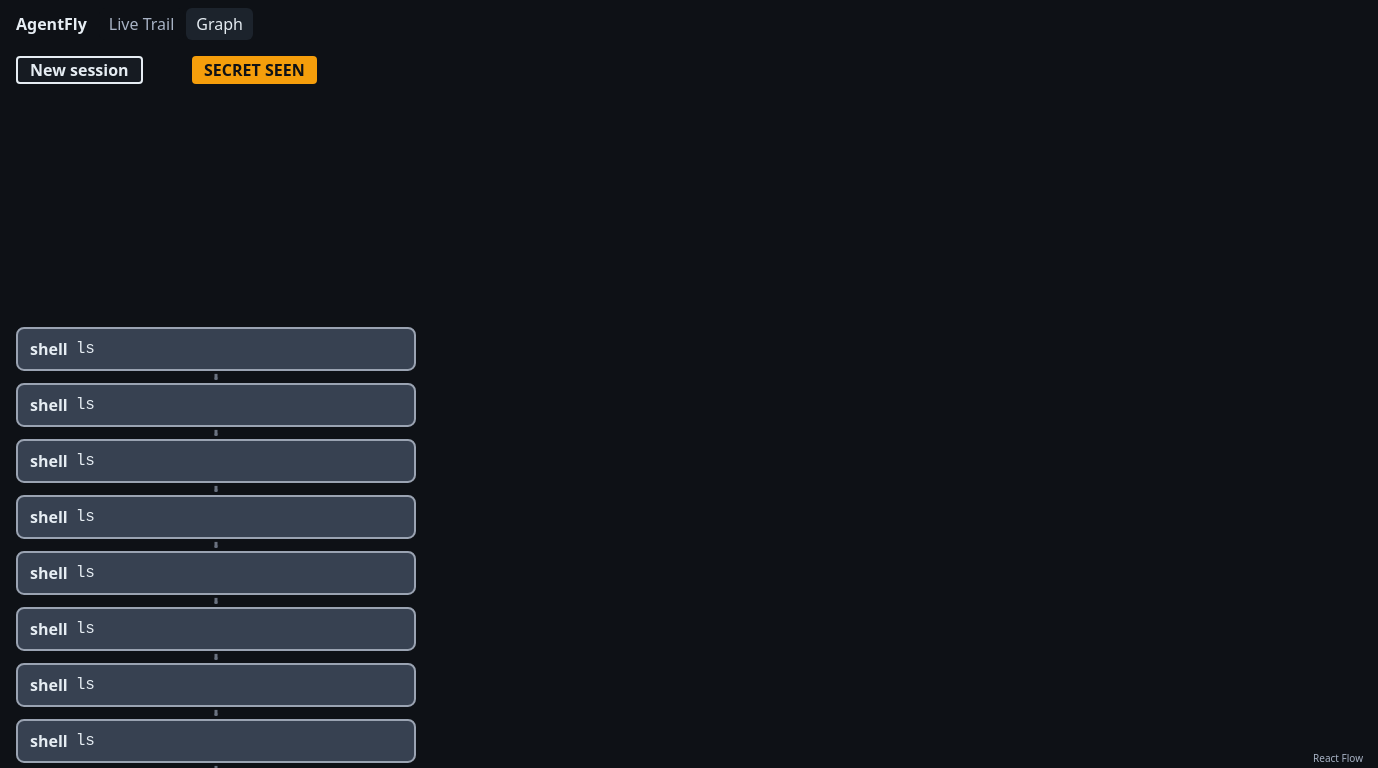
App › shows SECRET SEEN after a secret read, keeps it, and clears it on New session
Expected: the text "SECRET SEEN" is shown, [192,56,317,84]
Click the button "New session": (79, 70) [16,56,143,84]
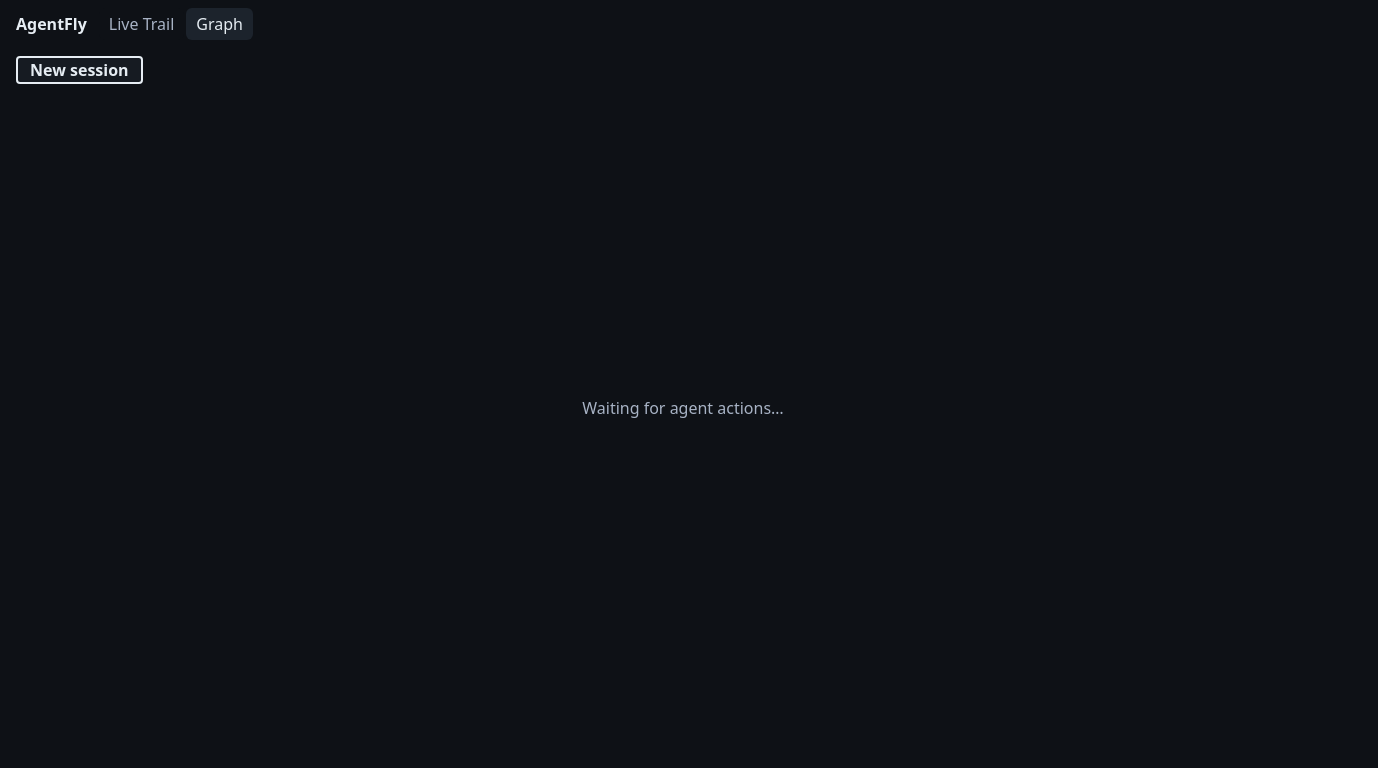
Now the text "SECRET SEEN" is gone
